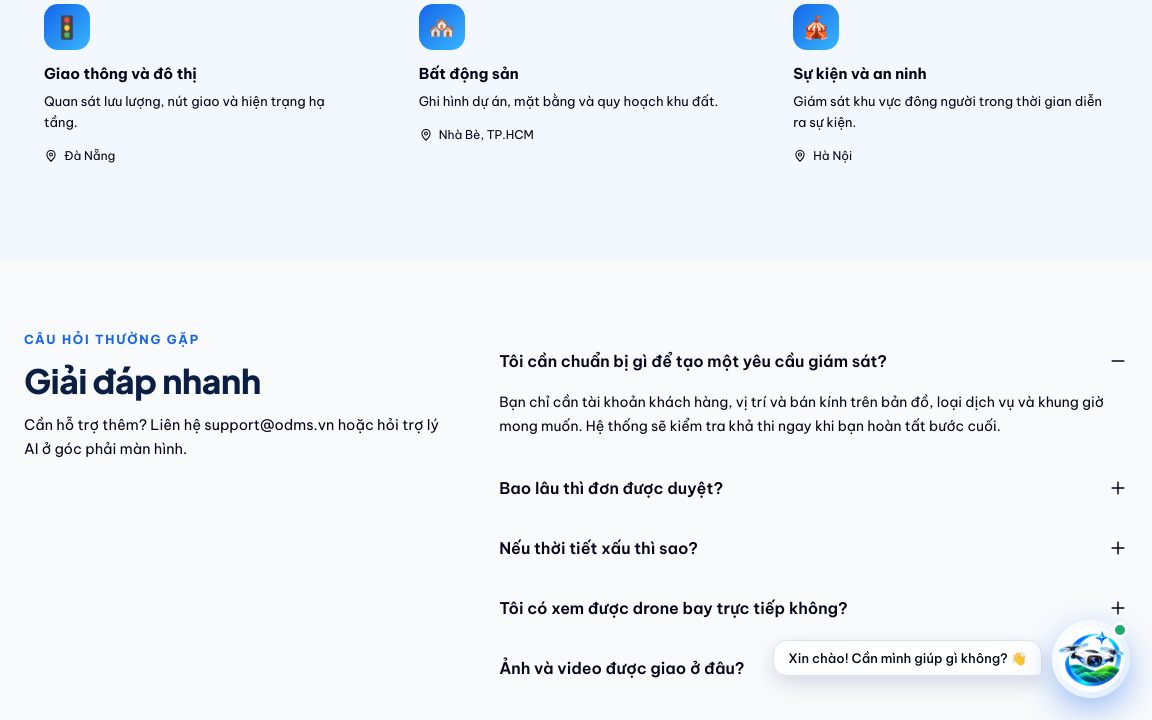
Scenario: LandingPage › opens the only FAQ item that has answer copy, expanded by default
(page scrolled)
Expected: the text "Bạn chỉ cần tài khoản khách hàng" is shown, [499, 393, 1104, 434]
Click the button "Tôi cần chuẩn bị gì để tạo một yêu cầu giám sát?".
click(814, 361)  # box [499, 331, 1128, 391]
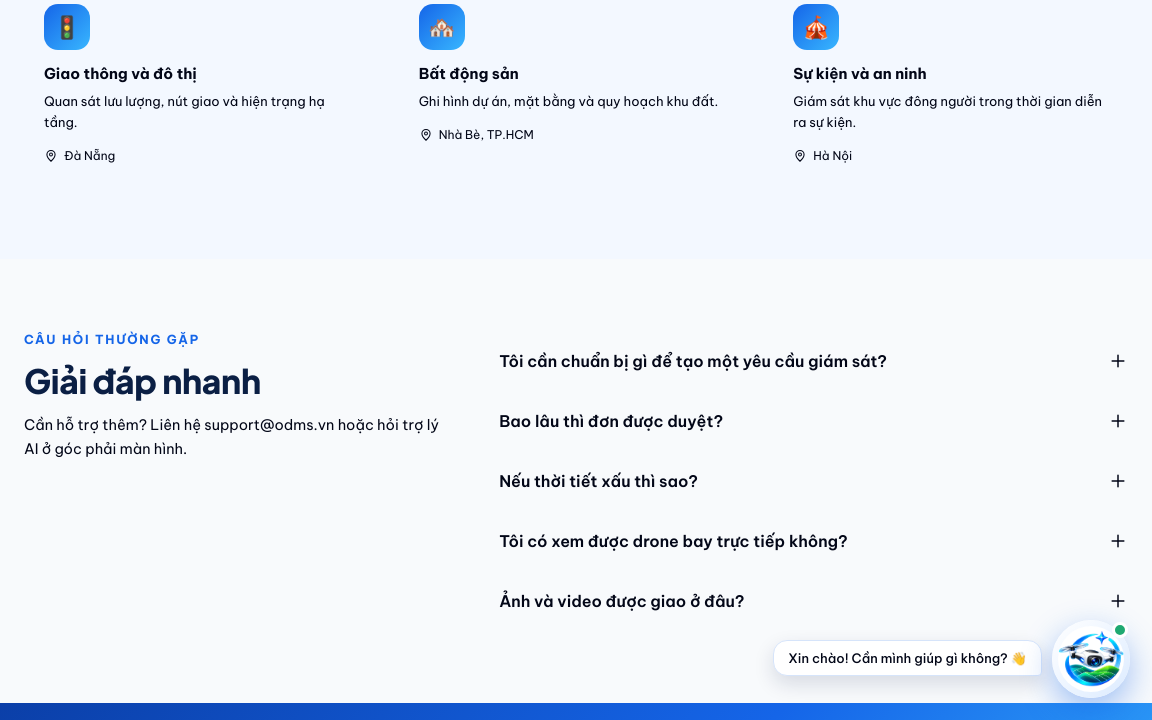
Result: the text "Bạn chỉ cần tài khoản khách hàng" is gone
